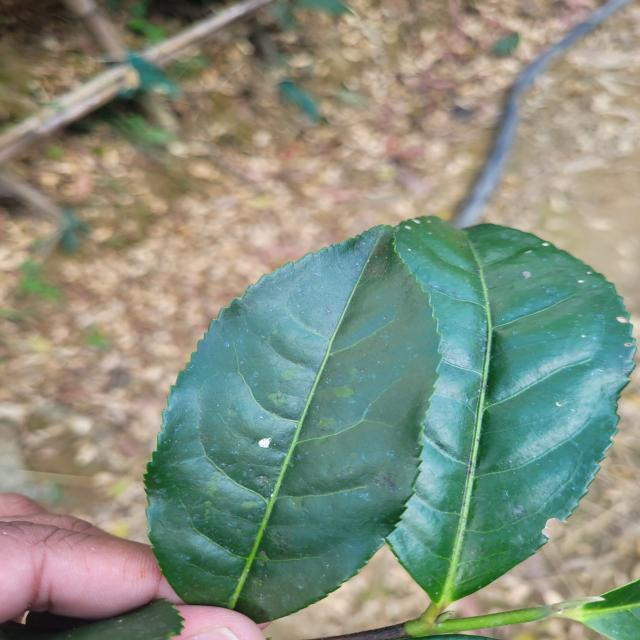Category D(7+ days, Not for Tea): (132, 208, 460, 640)
